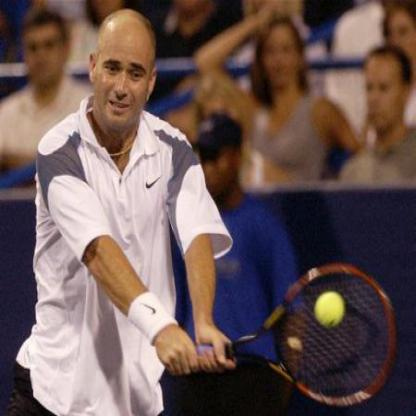face: (96, 12, 154, 132), (362, 48, 405, 131), (25, 11, 65, 88), (198, 120, 238, 197), (264, 20, 300, 88)
